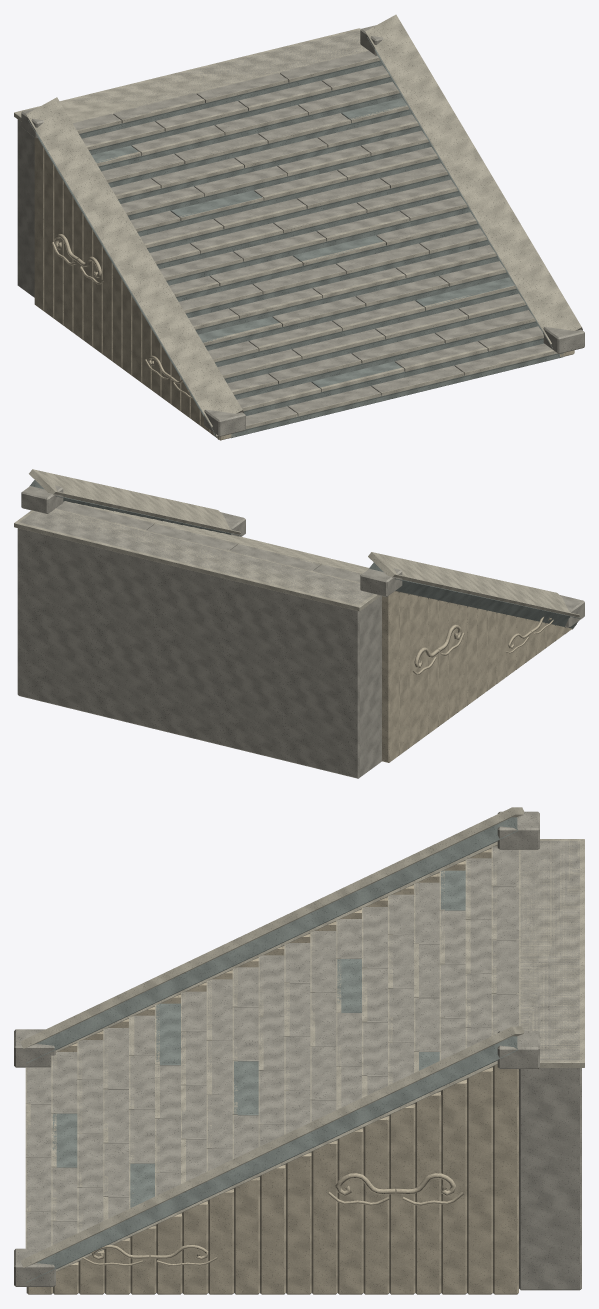
The picture shows the model from 3 angles, top to bottom: view 1: azimuth 30°, elevation 25°; view 2: azimuth 150°, elevation 25°; view 3: azimuth 270°, elevation 25°; orthographic projection. The views are drawn at different scales.
Parts seen in each view (by area): view 1: C06_stone, C06_light, C06_cool, C06_relief, C06_joint; view 2: C06_stone, C06_light, C06_relief, C06_cool; view 3: C06_stone, C06_relief, C06_light, C06_cool.
Boxes of the visible parts, <box> form: C06_stone: <box>17,25,584,436</box>; C06_light: <box>14,14,582,439</box>; C06_cool: <box>28,37,563,438</box>; C06_relief: <box>34,137,574,440</box>; C06_joint: <box>79,60,562,433</box>; C06_stone: <box>17,485,584,778</box>; C06_light: <box>14,469,580,629</box>; C06_relief: <box>382,591,571,762</box>; C06_cool: <box>29,480,580,628</box>; C06_stone: <box>14,811,581,1290</box>; C06_relief: <box>26,845,518,1294</box>; C06_light: <box>20,807,584,1271</box>; C06_cool: <box>26,817,518,1282</box>.
Bounding box in the file's own units: 6.97 × 3.71 × 7.06.
5 materials, 5 textured.
